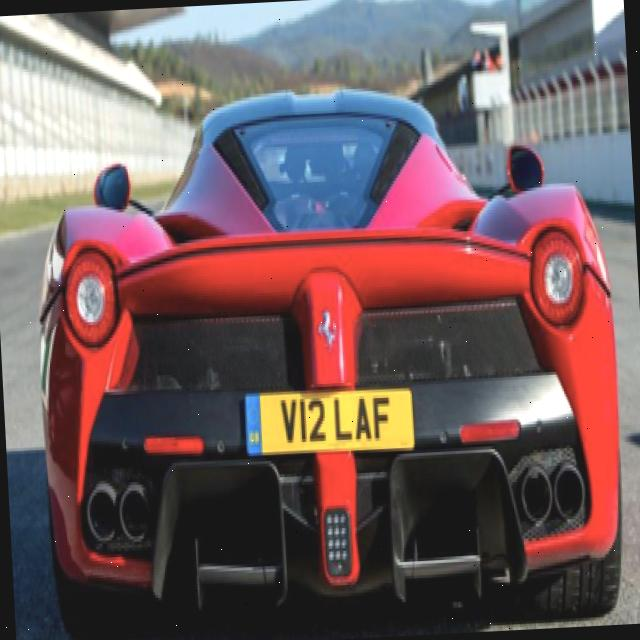Autre: (237, 375, 416, 461)
